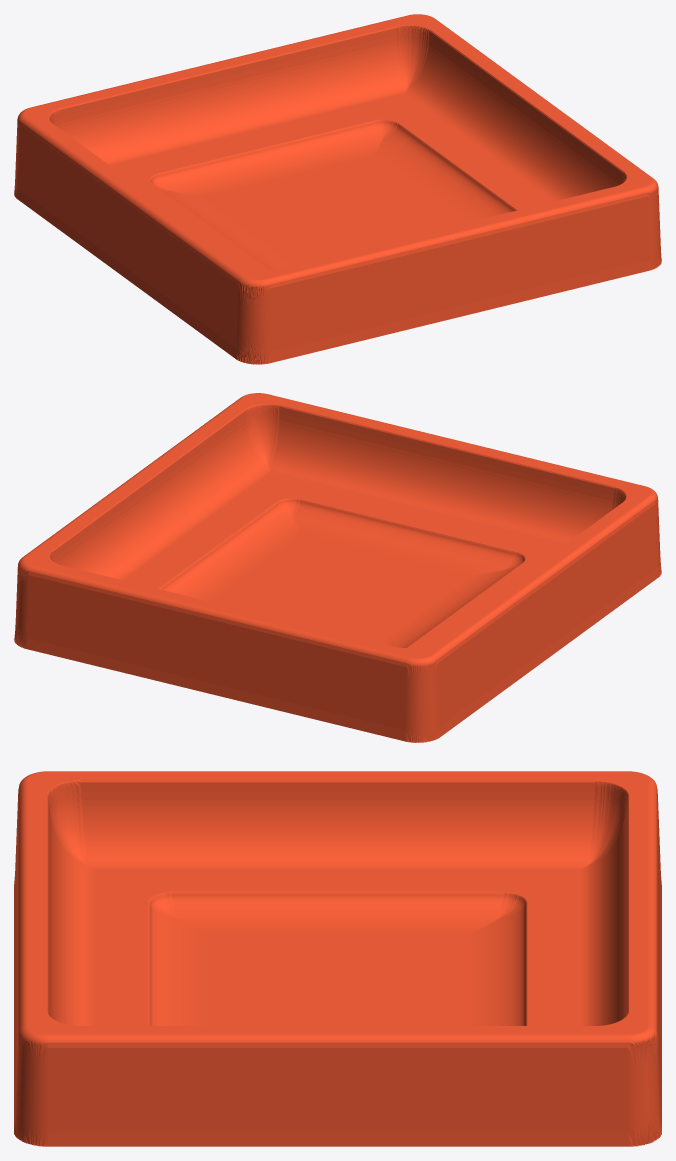
File: mold.glb
3 views of the same model, one above another, from view 1: azimuth 30°, elevation 25°; view 2: azimuth 150°, elevation 25°; view 3: azimuth 270°, elevation 25° (orthographic). The views are drawn at different scales.
Parts seen in each view (by area): view 1: geometry_0; view 2: geometry_0; view 3: geometry_0.
Part boxes in pixels (left/top/right/bottom): geometry_0: left=14, top=14, right=661, bottom=364; geometry_0: left=14, top=393, right=661, bottom=742; geometry_0: left=14, top=771, right=661, bottom=1146.
Size of the model in its own units: 0.1709 by 0.031 by 0.1709.
